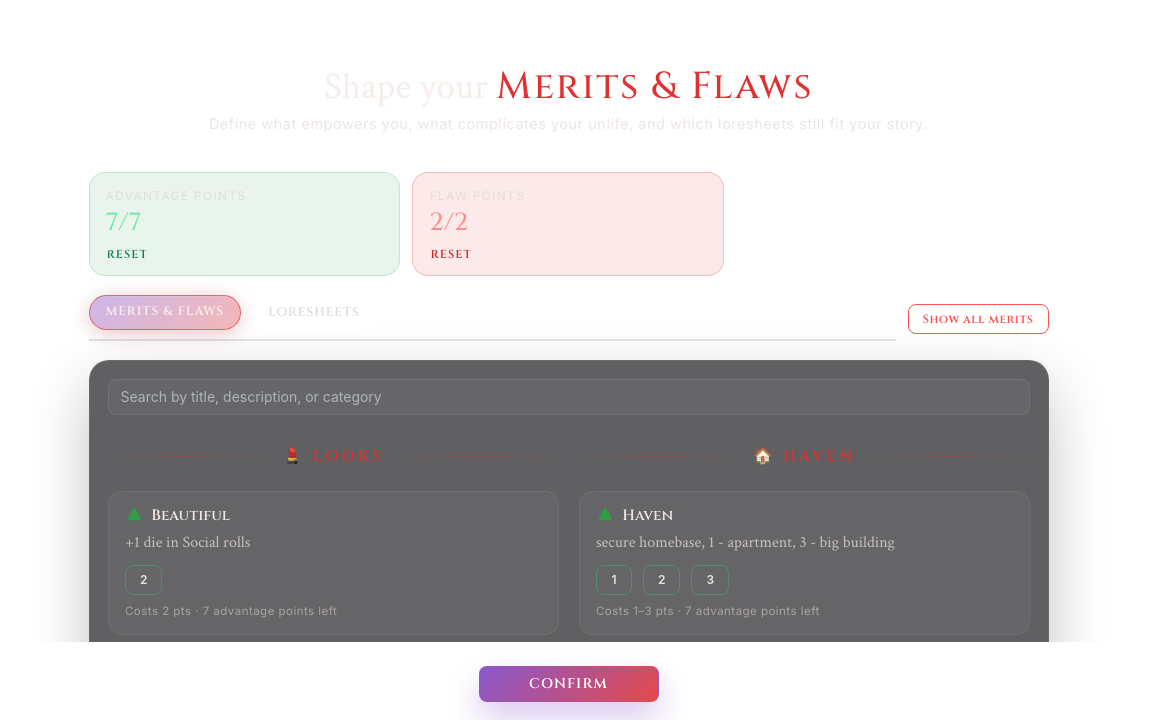
Scenario: Merits & Flaws affordability › shows essential merits by default and reveals advanced merits only when requested
Click the button "Show all merits" at [978, 319], box [908, 304, 1048, 334]
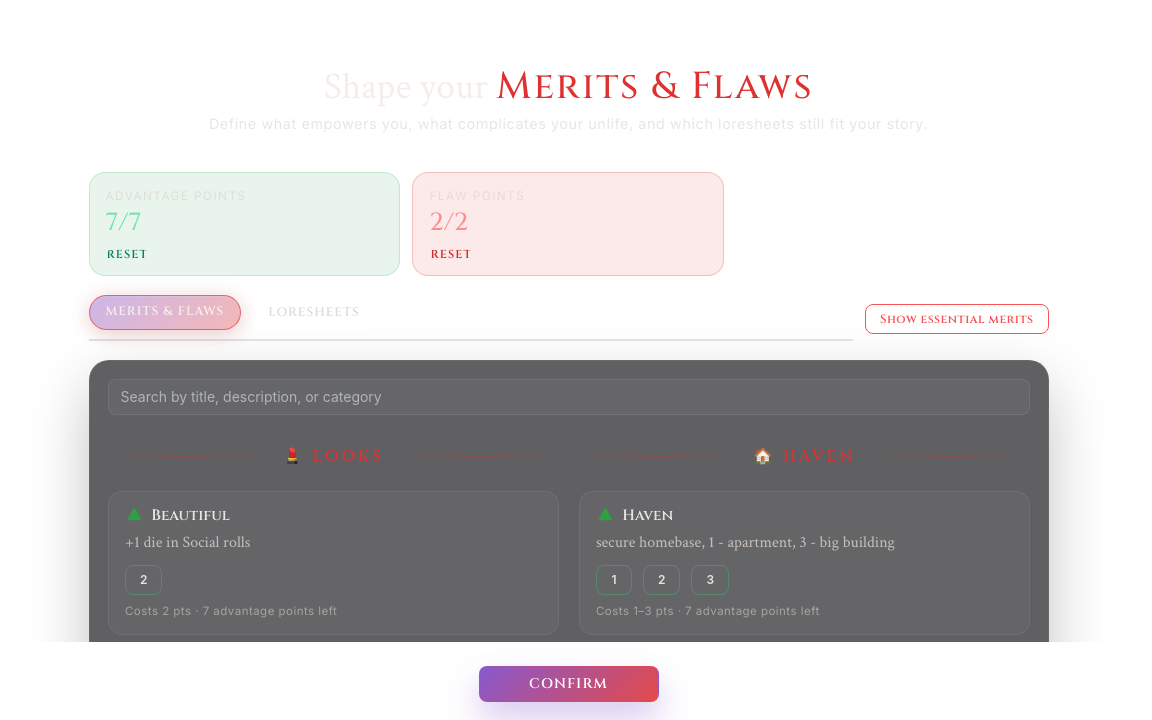
Click the button "Show essential merits" at [957, 319], box [865, 304, 1048, 334]
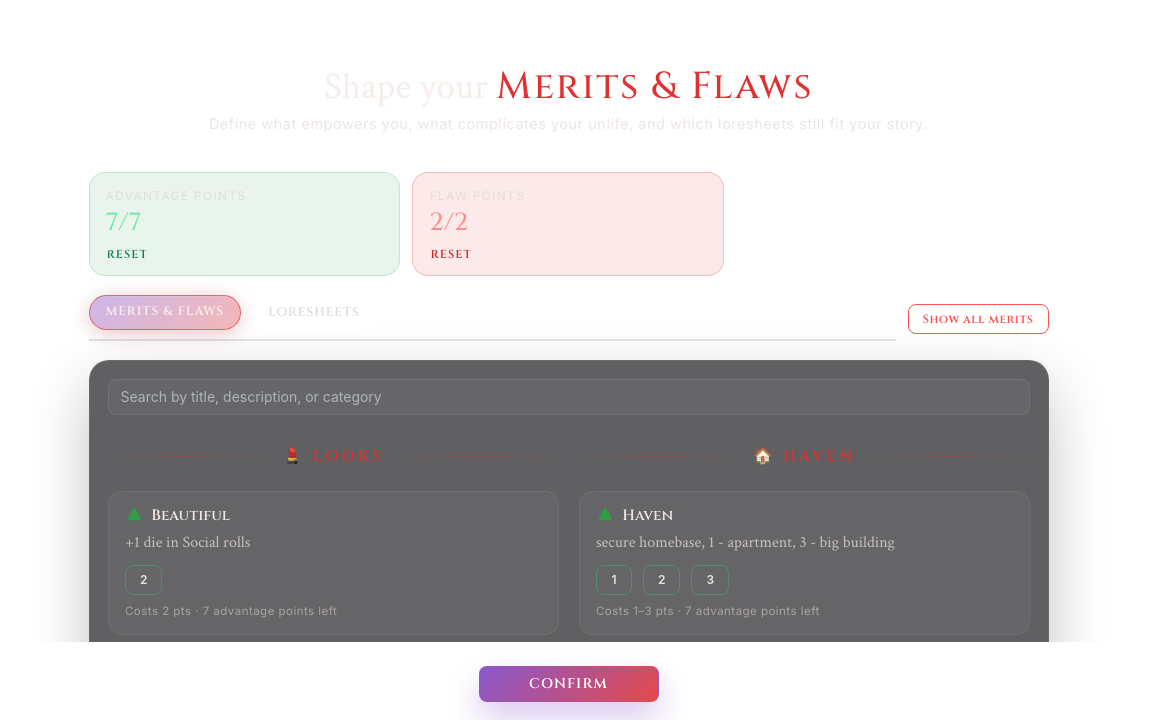
Expected: the button "Show all merits" is shown, [908, 304, 1048, 334]
